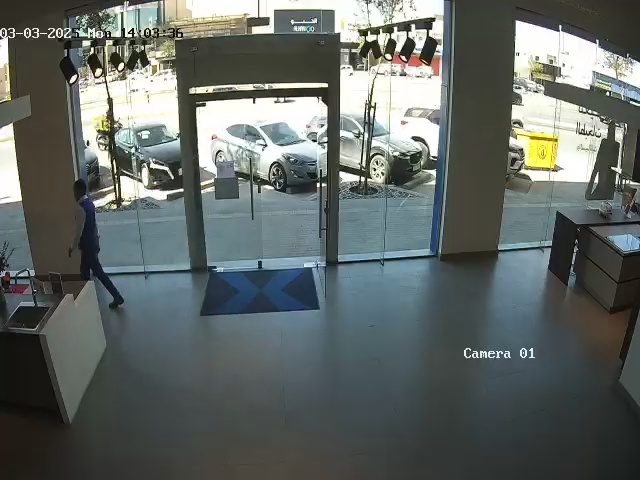employee: (68, 179, 125, 309)
